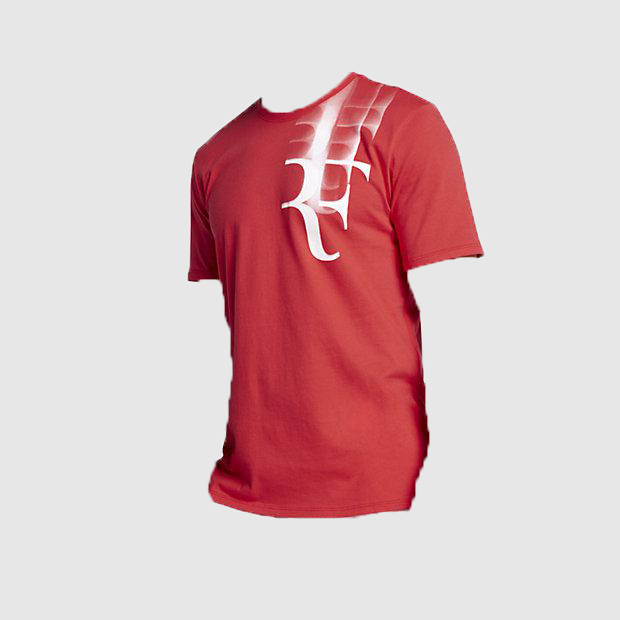teeshirt: (174, 72, 497, 543)
